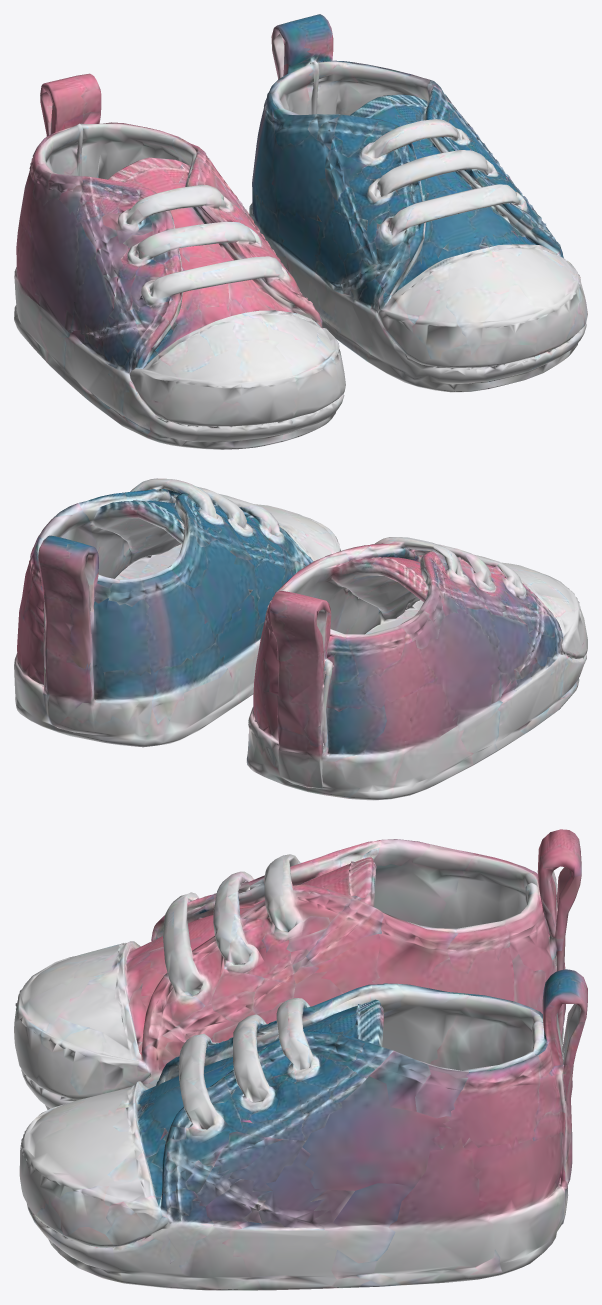
The picture shows the model from 3 angles, top to bottom: view 1: azimuth 30°, elevation 25°; view 2: azimuth 150°, elevation 25°; view 3: azimuth 270°, elevation 25°; orthographic projection. The views are drawn at different scales.
Bounding box in the file's own units: 1.9 × 0.8368 × 1.74.
Materials: 1 (1 with a texture image).
